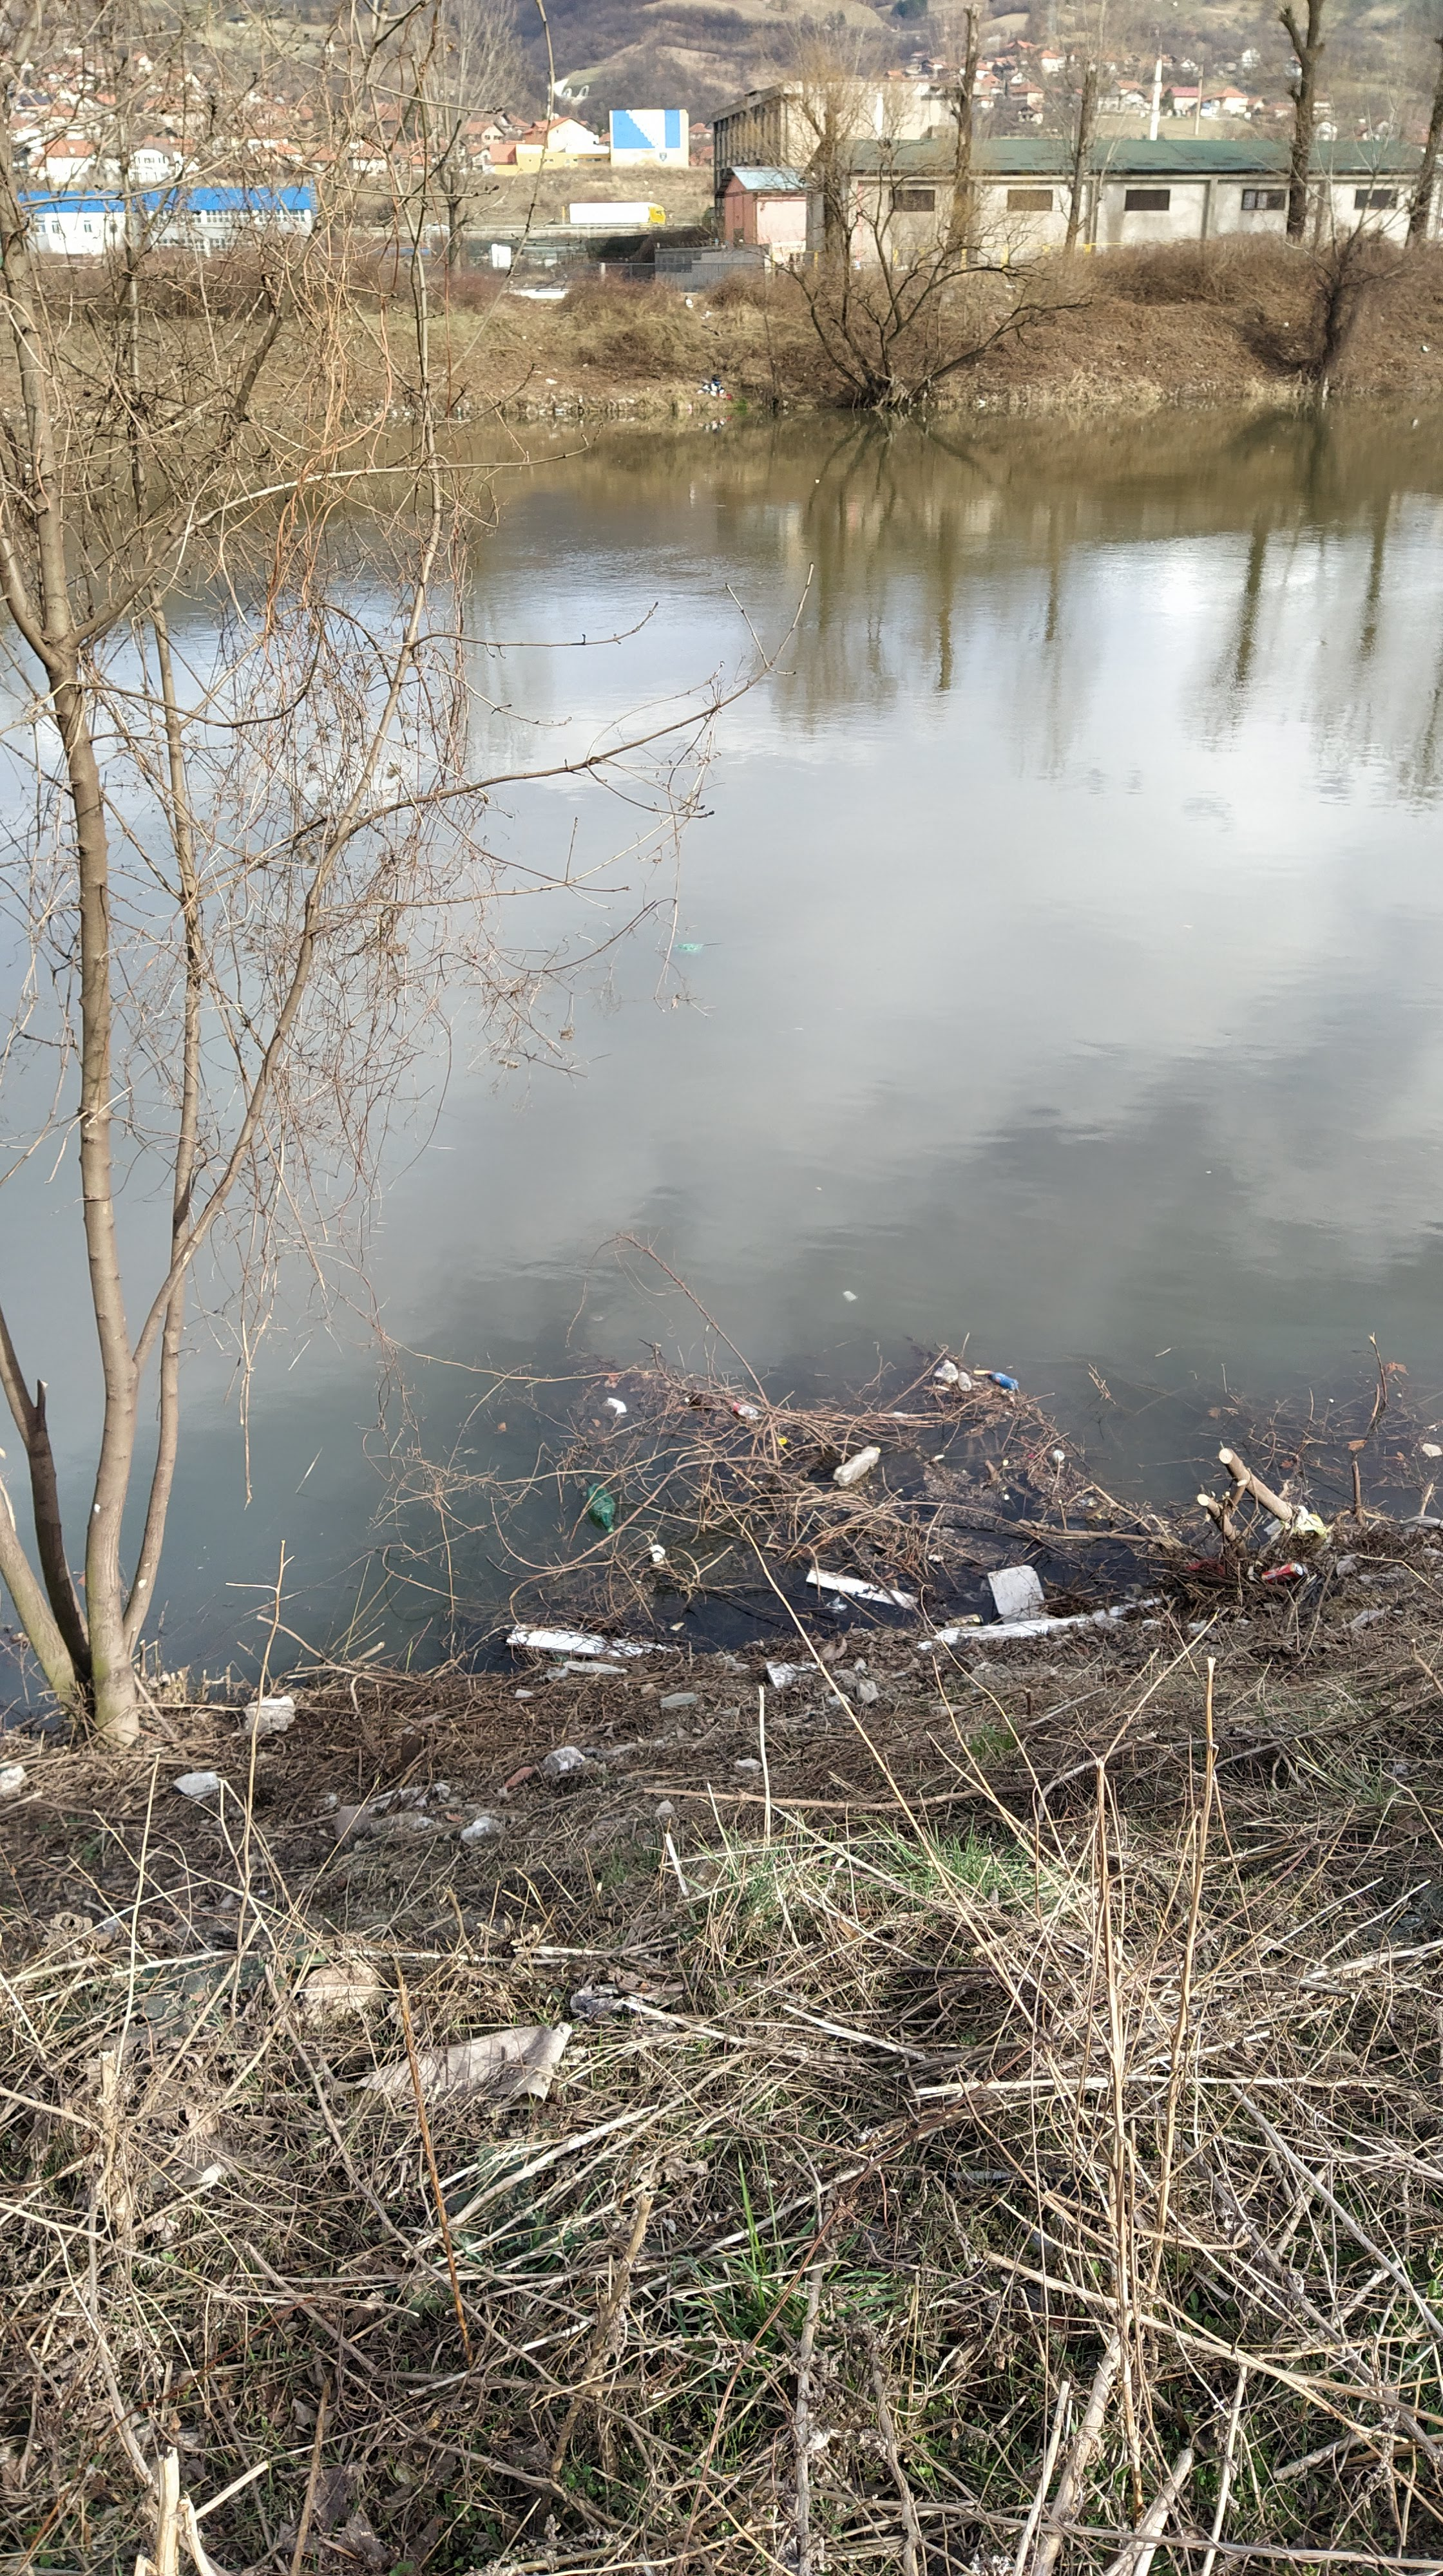Plastic Bottle: (832, 1445, 882, 1486), (586, 1483, 616, 1532), (726, 1398, 758, 1417), (988, 1371, 1018, 1389), (944, 1359, 958, 1384), (958, 1371, 972, 1392), (675, 943, 703, 952), (1053, 1449, 1064, 1461)
